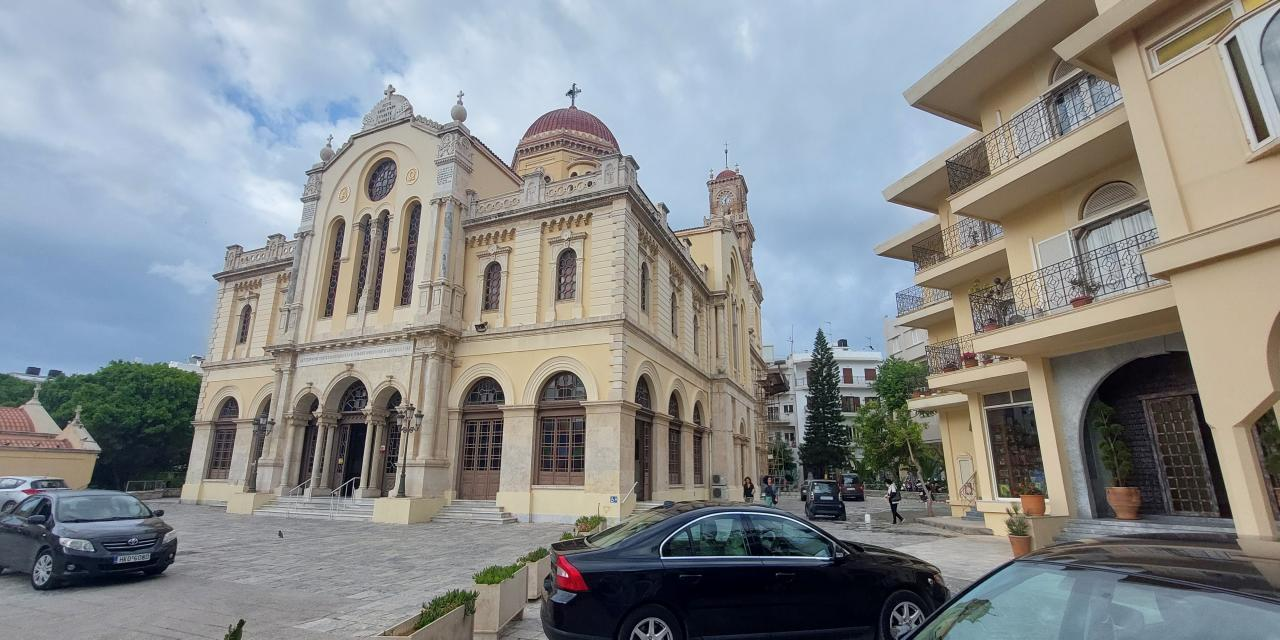Agios Minas: (181, 74, 771, 515)
